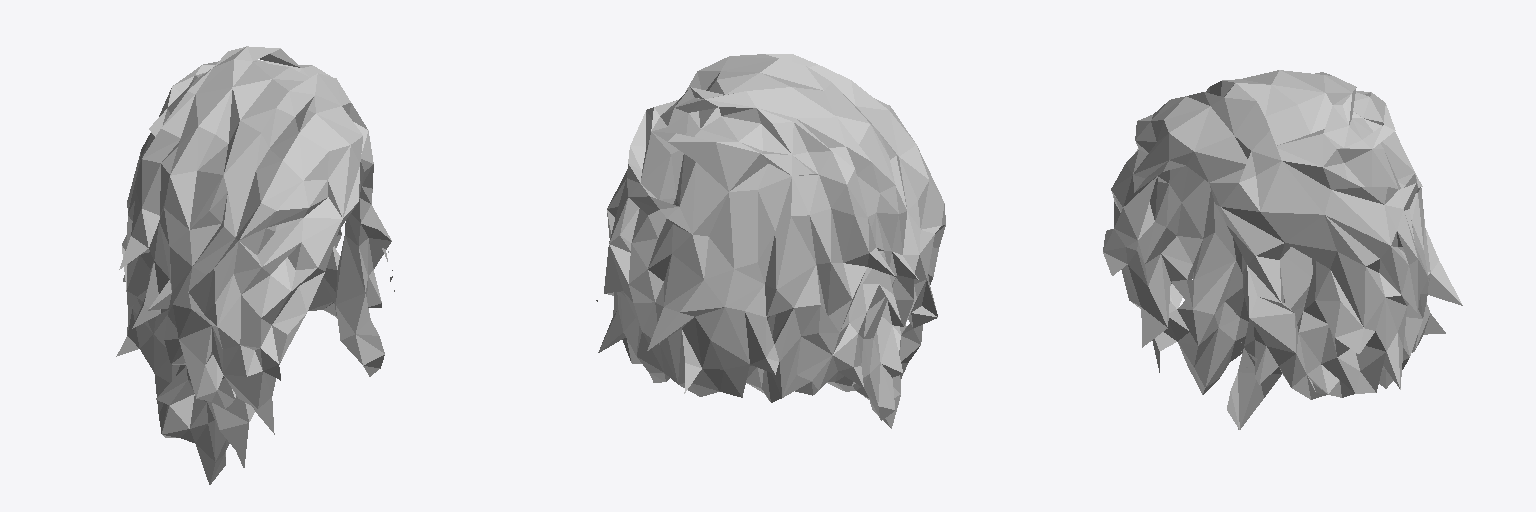
File: hair female 3.obj
The picture shows the model from 3 angles: view 1: azimuth 30°, elevation 25°; view 2: azimuth 150°, elevation 25°; view 3: azimuth 270°, elevation 25°; orthographic projection.
Visible parts, largest first — view 1: Object.001_Mesh; view 2: Object.001_Mesh; view 3: Object.001_Mesh.
Boxes of the visible parts, x1,y1,x2,y2 form: Object.001_Mesh: [116, 46, 394, 484]; Object.001_Mesh: [596, 54, 945, 428]; Object.001_Mesh: [1103, 70, 1462, 429].
Size of the model in its own units: 0.5725 by 0.7458 by 0.6847.